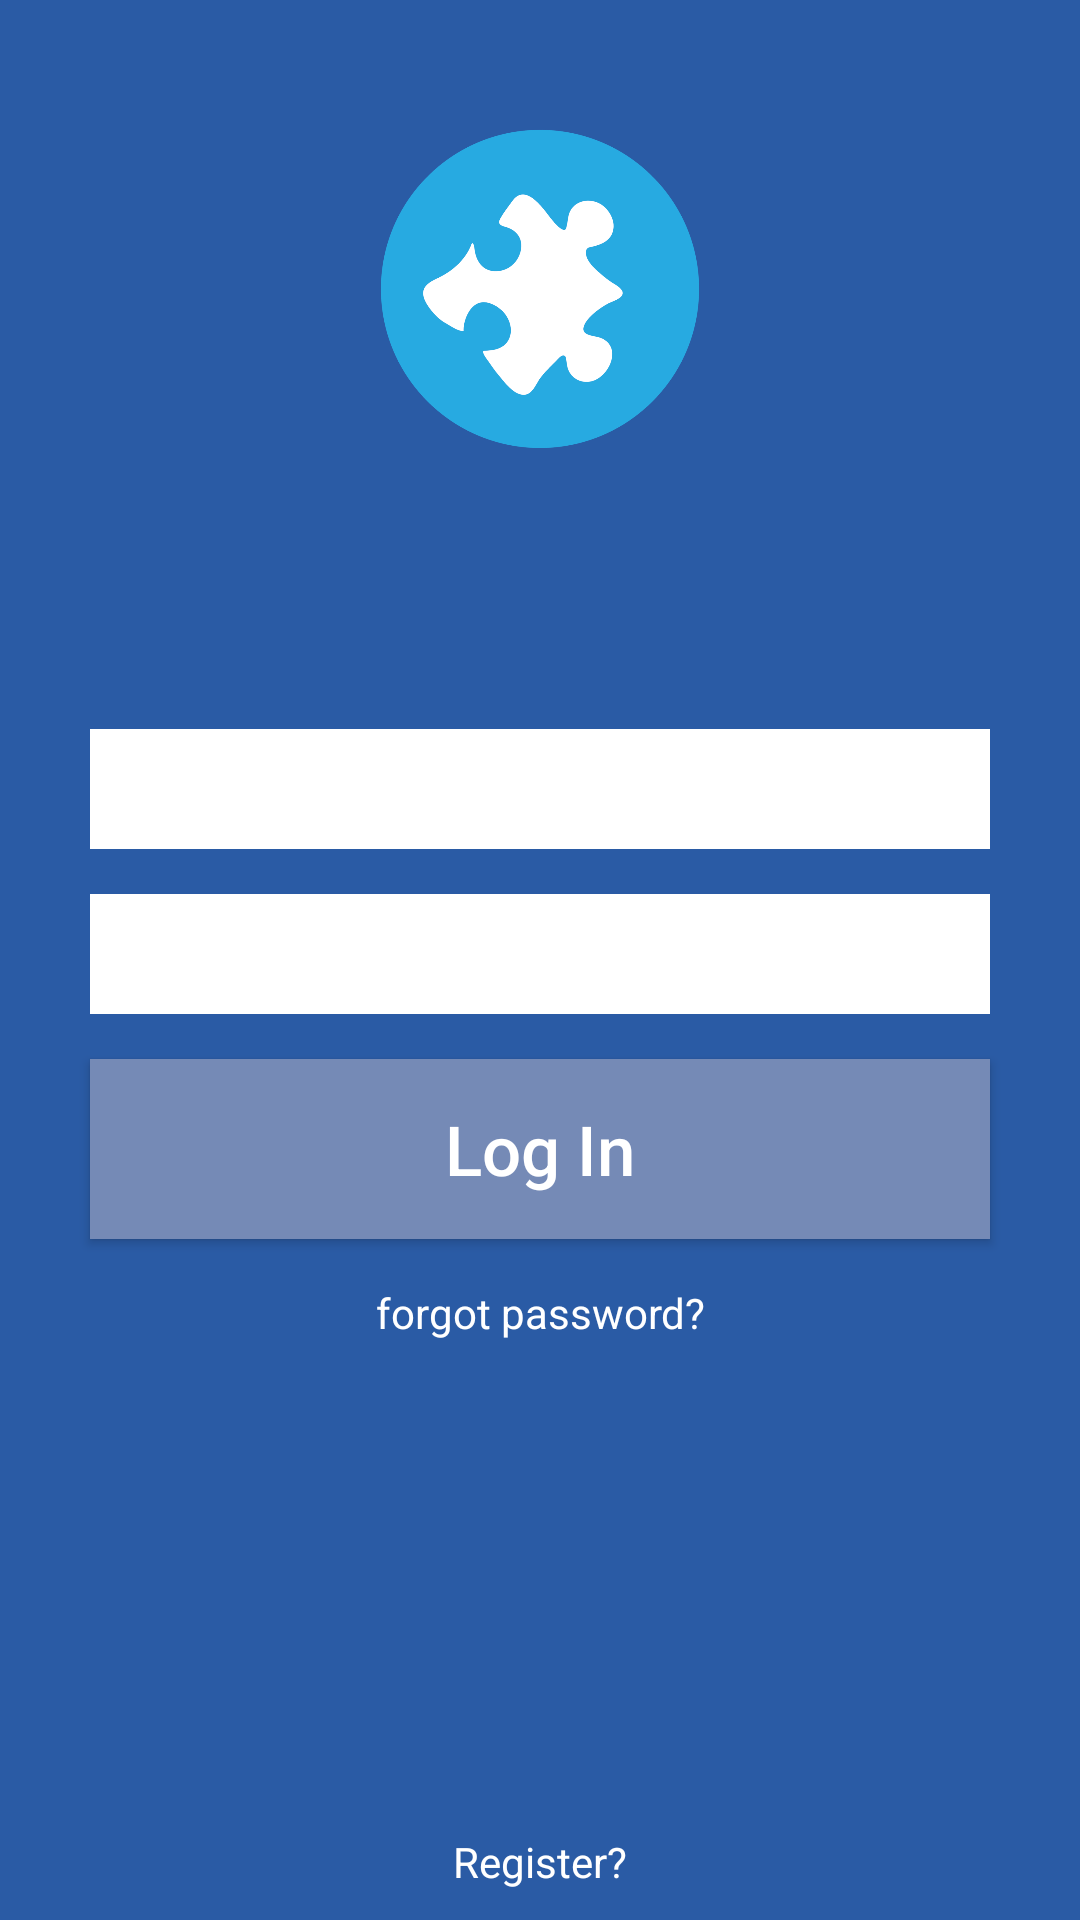

Screen size 1080*1920. Icon name, then its center in pixels as (x,y):
puzzle: (540,289)
